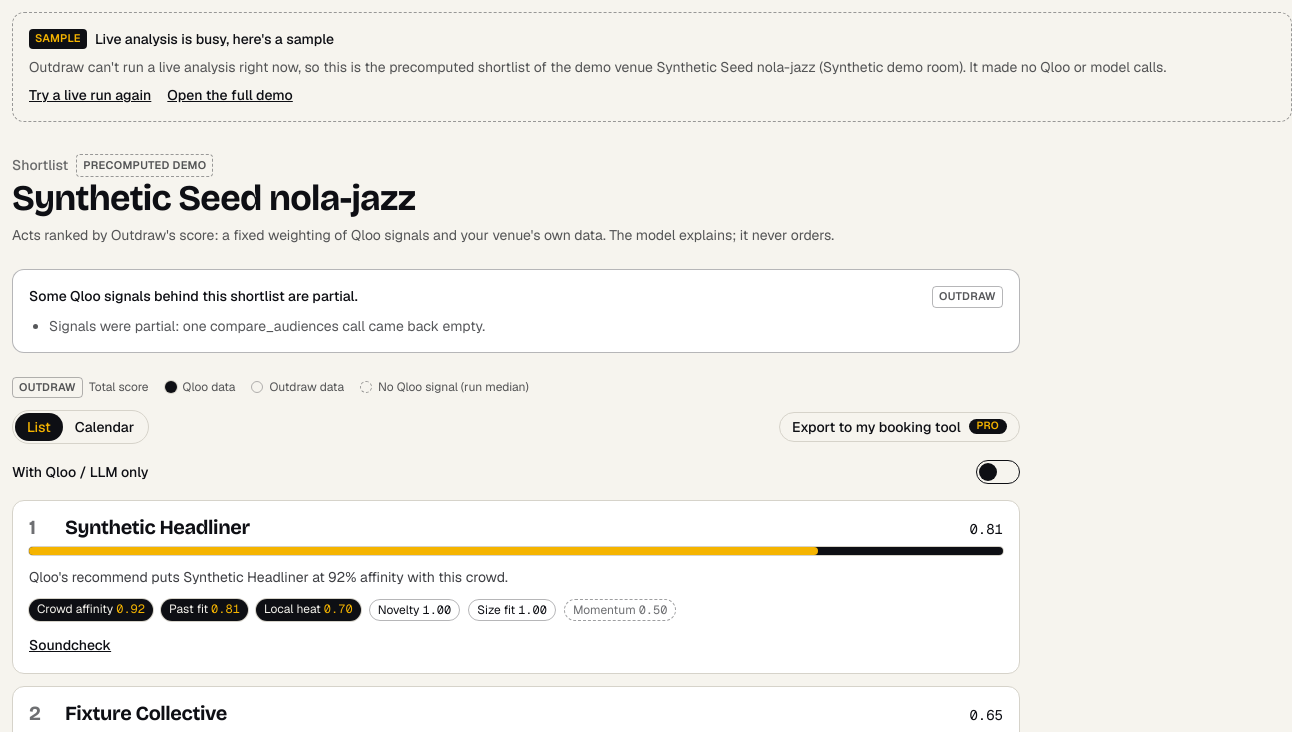
Test case: refused run › falls back to the default seed when none is named, and retries live
This screenshot has width=1292, height=732.
Expected: the message named "Sample shortlist" is shown, [12,12,1291,122]
Click the button "Try a live run again" at (90, 95), box [29,85,151,105]
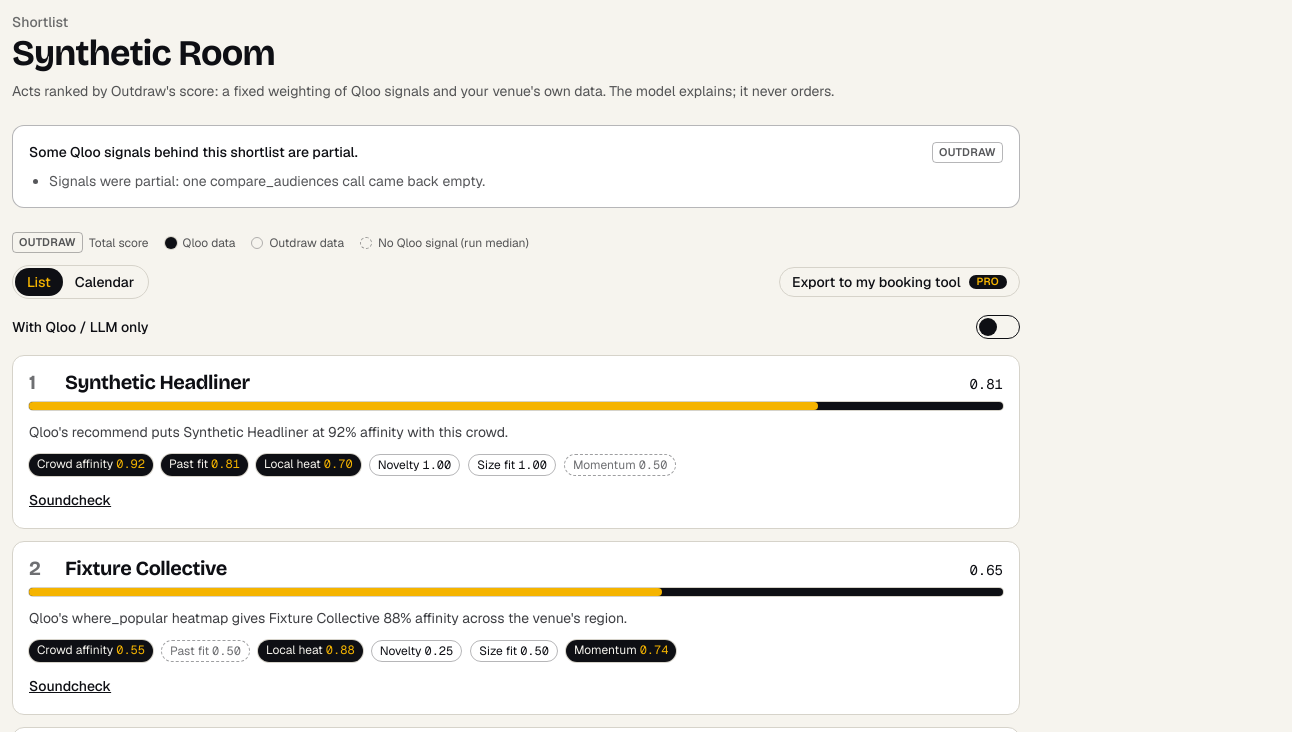
Expected: the heading "Synthetic Room" is shown, [12,32,275,75]
